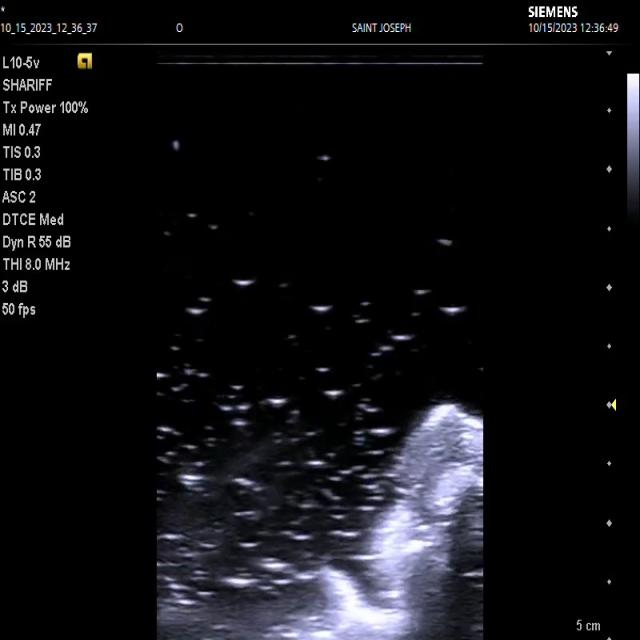tissue: (265, 404, 483, 640)
